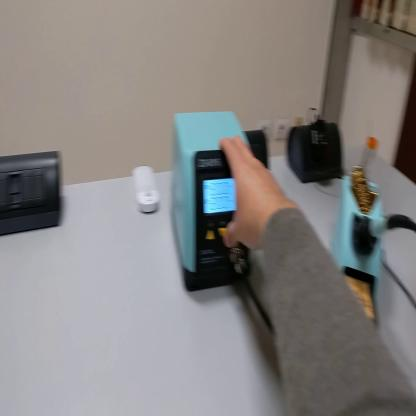hand: (220, 136, 284, 252)
socket: (288, 119, 345, 184), (245, 129, 271, 169)
welder base: (338, 135, 386, 334)
welder probe tip: (363, 209, 398, 261)
welder station: (173, 100, 256, 294)
